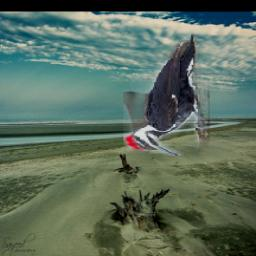Woodpecker: (124, 33, 211, 156)
